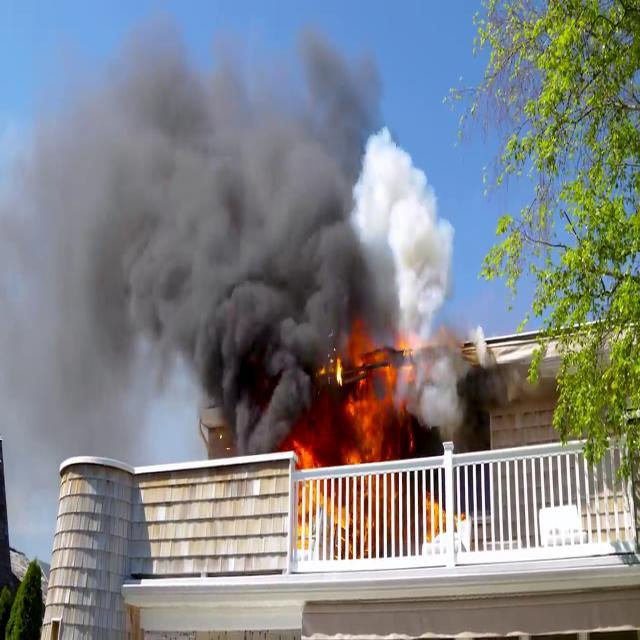Fire: (298, 336, 412, 487)
Smoke: (26, 28, 476, 556)
